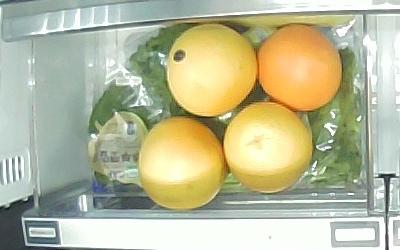grapefruit: (166, 24, 257, 117), (138, 116, 227, 210), (223, 101, 312, 194), (257, 23, 342, 112)
